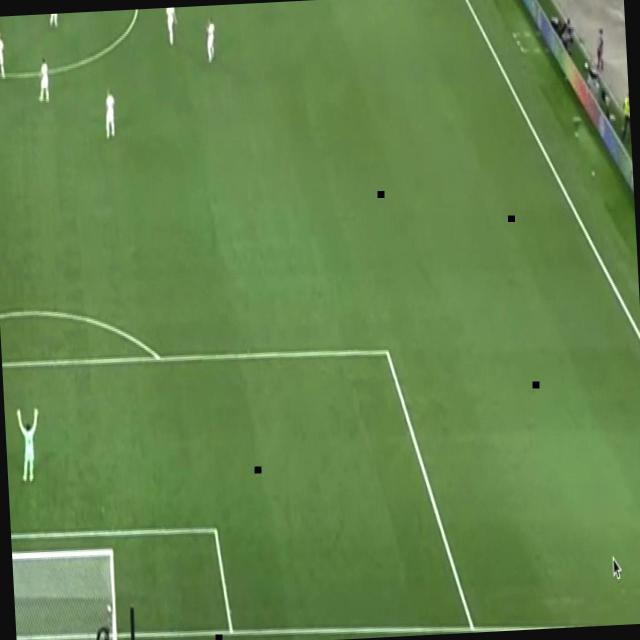ball: (584, 60, 589, 70)
player-white: (15, 404, 43, 486), (102, 87, 118, 139), (35, 56, 51, 103), (203, 14, 217, 64), (163, 8, 179, 46), (0, 28, 6, 81), (48, 14, 61, 28)
